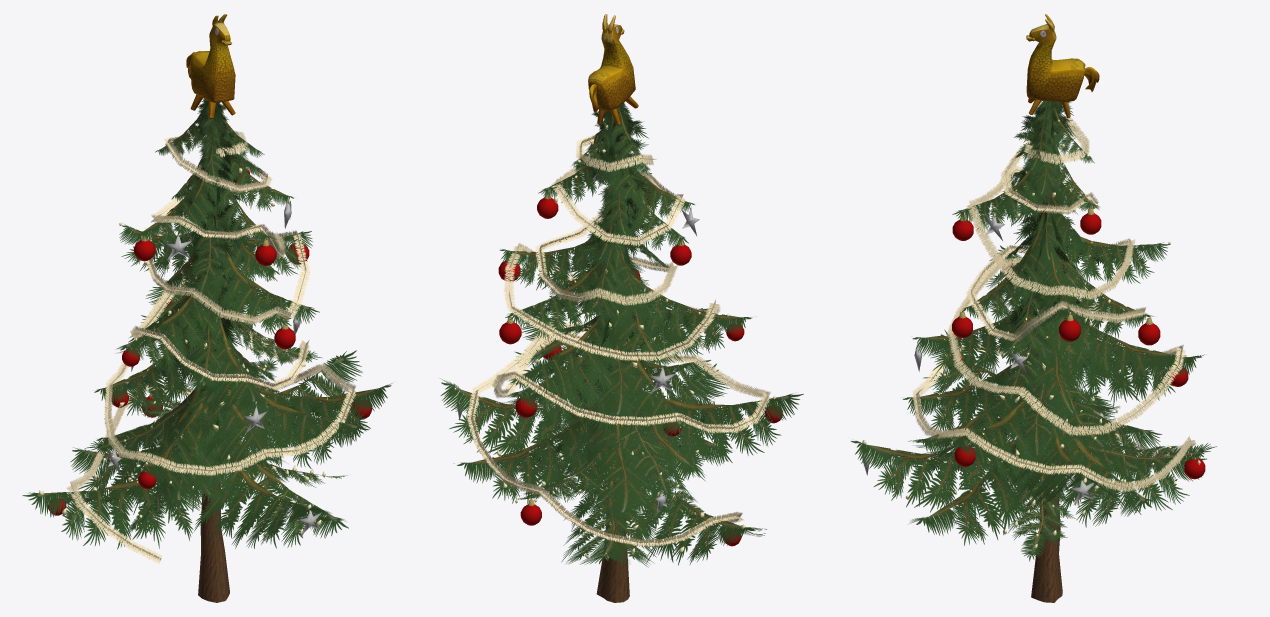
Rendered from tree-sm_pinetree_small.glb.
3 renders of one model, left to right at view 1: azimuth 30°, elevation 25°; view 2: azimuth 150°, elevation 25°; view 3: azimuth 270°, elevation 25°, orthographic.
Visible parts, largest first — view 1: SM_PineTree_Small.dmx-static, SM_PineTree_Holiday_Ornaments.dmx-static, SM_PineTree_Holiday_Llama.dmx-static; view 2: SM_PineTree_Small.dmx-static, SM_PineTree_Holiday_Ornaments.dmx-static, SM_PineTree_Holiday_Llama.dmx-static; view 3: SM_PineTree_Small.dmx-static, SM_PineTree_Holiday_Ornaments.dmx-static, SM_PineTree_Holiday_Llama.dmx-static.
Boxes of the visible parts, x1,y1,x2,y2 form: SM_PineTree_Small.dmx-static: (22, 99, 392, 602); SM_PineTree_Holiday_Ornaments.dmx-static: (38, 129, 378, 563); SM_PineTree_Holiday_Llama.dmx-static: (186, 14, 235, 119); SM_PineTree_Small.dmx-static: (440, 102, 803, 602); SM_PineTree_Holiday_Ornaments.dmx-static: (454, 123, 784, 559); SM_PineTree_Holiday_Llama.dmx-static: (588, 14, 638, 125); SM_PineTree_Small.dmx-static: (851, 100, 1216, 602); SM_PineTree_Holiday_Ornaments.dmx-static: (862, 118, 1205, 548); SM_PineTree_Holiday_Llama.dmx-static: (1026, 14, 1099, 117).
Size of the model in its own units: 3.43 by 5.6 by 3.64.
Materials: 4 (4 with a texture image).
